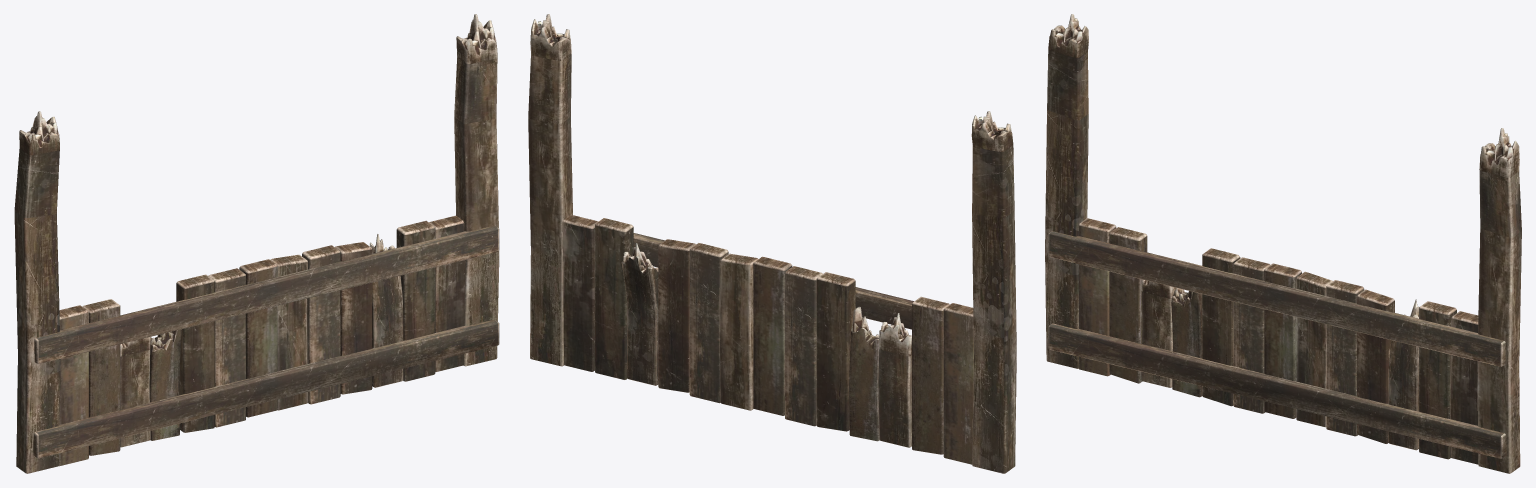
3 renders of one model, left to right at view 1: azimuth 30°, elevation 25°; view 2: azimuth 150°, elevation 25°; view 3: azimuth 330°, elevation 25°, orthographic. The views are drawn at different scales.
Visible parts, largest first — view 1: SM_Human_Ruins_Wall_Wood_01_LOD0; view 2: SM_Human_Ruins_Wall_Wood_01_LOD0; view 3: SM_Human_Ruins_Wall_Wood_01_LOD0.
Part boxes in pixels (x1,y1,x2,y2): SM_Human_Ruins_Wall_Wood_01_LOD0: (14,14,499,473); SM_Human_Ruins_Wall_Wood_01_LOD0: (528,14,1016,473); SM_Human_Ruins_Wall_Wood_01_LOD0: (1045,14,1521,473).
Bounding box in the file's own units: 4.01 × 2.86 × 0.3067.
Materials: 1 (1 with a texture image).
